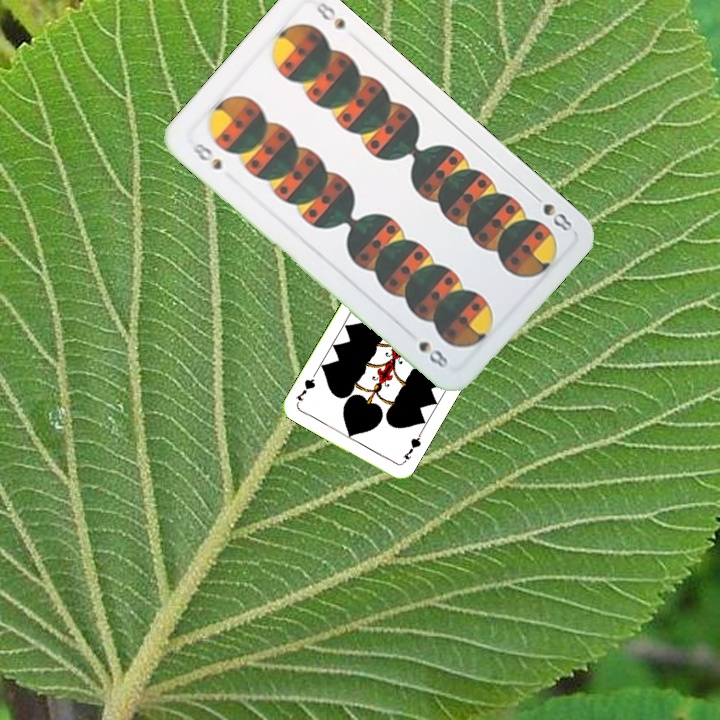G7: (398, 430, 424, 467)
S8: (527, 188, 575, 234), (186, 138, 225, 173)
